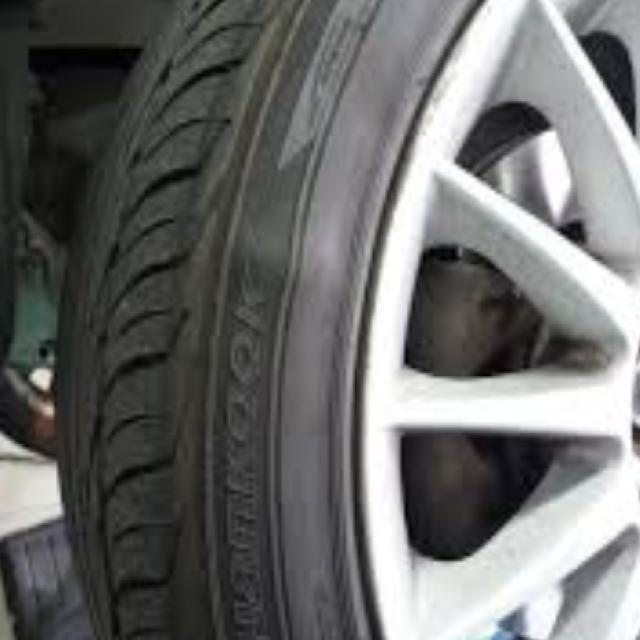Bulge: (209, 174, 367, 344)
